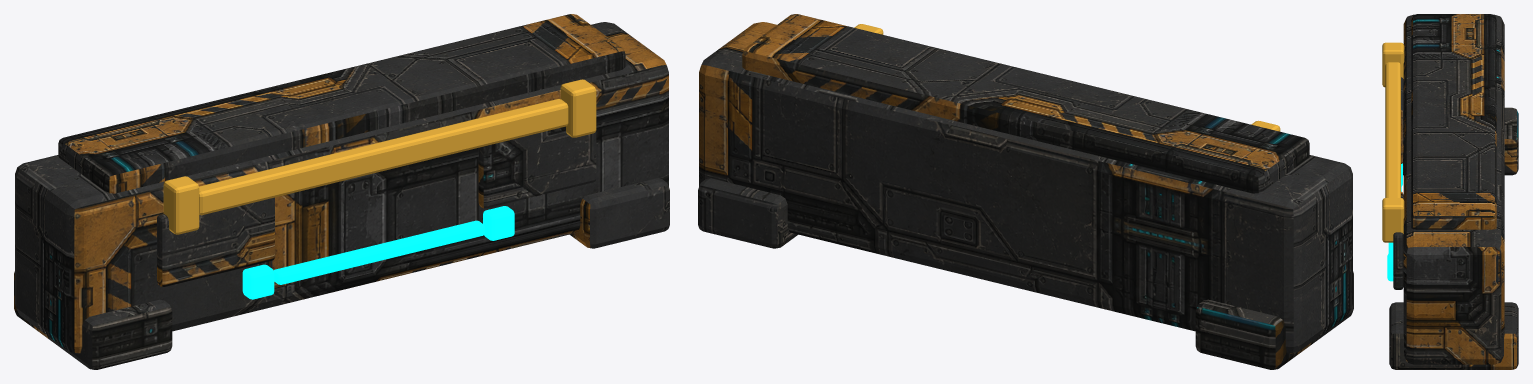
File: SalvageAnnexBarrierModel.fbx
The picture shows the model from 3 angles, left to right: view 1: azimuth 30°, elevation 25°; view 2: azimuth 150°, elevation 25°; view 3: azimuth 270°, elevation 25°; orthographic projection. The views are drawn at different scales.
Visible parts, largest first — view 1: Salvage Annex Armor, Salvage Annex Hazard Rail, Salvage Annex Conduit; view 2: Salvage Annex Armor; view 3: Salvage Annex Armor, Salvage Annex Hazard Rail, Salvage Annex Conduit.
Boxes of the visible parts, <box> form: Salvage Annex Armor: <box>14,14,669,369</box>; Salvage Annex Hazard Rail: <box>163,79,596,234</box>; Salvage Annex Conduit: <box>242,206,514,299</box>; Salvage Annex Armor: <box>698,14,1353,369</box>; Salvage Annex Armor: <box>1389,14,1518,369</box>; Salvage Annex Hazard Rail: <box>1382,42,1404,242</box>; Salvage Annex Conduit: <box>1387,163,1402,281</box>.
Size of the model in its own units: 4.3 by 1.24 by 1.05.
Materials: 3 (1 with a texture image).
